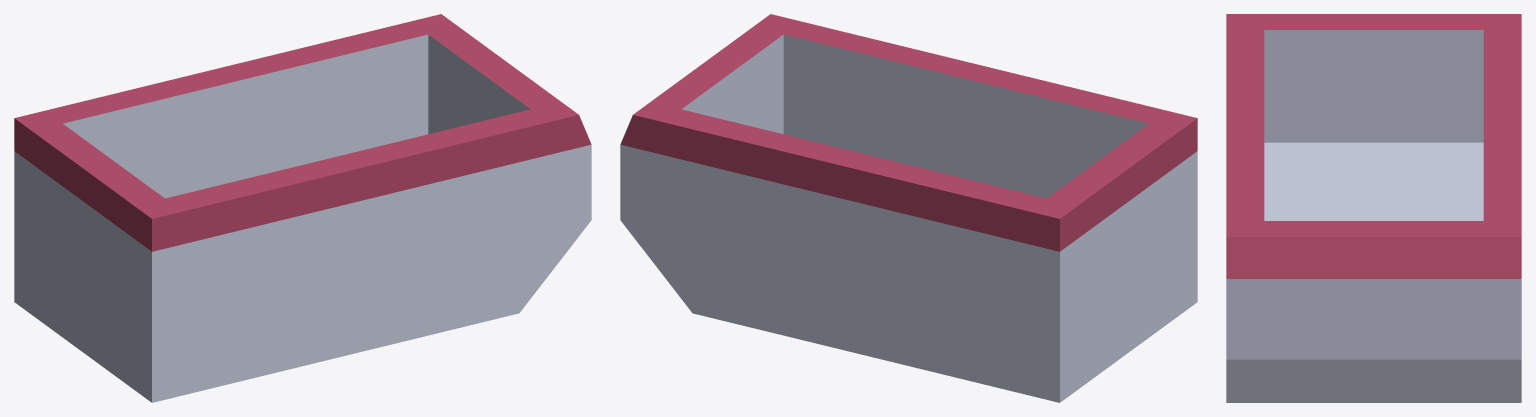
File: spaceInterior_017.obj
The picture shows the model from 3 angles, left to right: view 1: azimuth 30°, elevation 25°; view 2: azimuth 150°, elevation 25°; view 3: azimuth 270°, elevation 25°; orthographic projection. The views are drawn at different scales.
Parts seen in each view (by area): view 1: Mesh1 Group1 Model; view 2: Mesh1 Group1 Model; view 3: Mesh1 Group1 Model.
Part boxes in pixels (x1=…): Mesh1 Group1 Model: x1=14, y1=14, x2=591, y2=402; Mesh1 Group1 Model: x1=620, y1=14, x2=1197, y2=402; Mesh1 Group1 Model: x1=1226, y1=14, x2=1521, y2=402.
Size of the model in its own units: 0.7 by 0.28 by 0.38.
